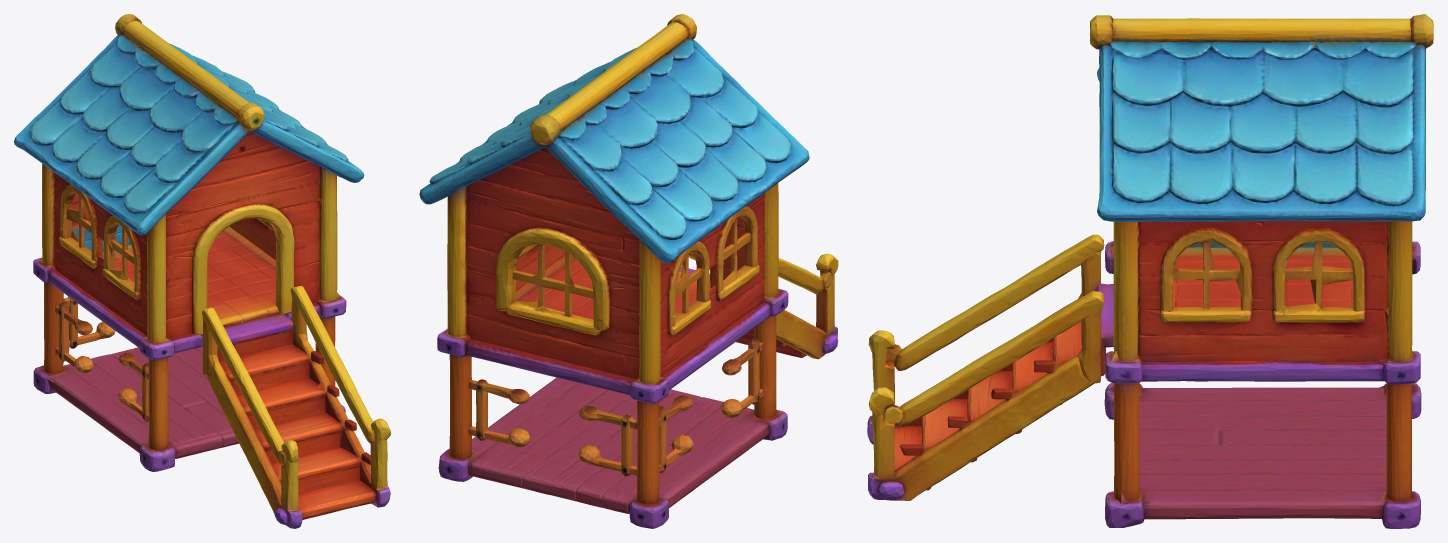
File: DOM_budka_8__toy.glb
3 renders of one model, left to right at view 1: azimuth 30°, elevation 25°; view 2: azimuth 150°, elevation 25°; view 3: azimuth 270°, elevation 25°, orthographic. The views are drawn at different scales.
Visible parts, largest first — view 1: tripo_node_ac6729f5-73c2-4e4e-95e1-3ff5b1cdb705; view 2: tripo_node_ac6729f5-73c2-4e4e-95e1-3ff5b1cdb705; view 3: tripo_node_ac6729f5-73c2-4e4e-95e1-3ff5b1cdb705.
Boxes of the visible parts, left/top/right/bottom form: tripo_node_ac6729f5-73c2-4e4e-95e1-3ff5b1cdb705: left=14, top=14, right=390, bottom=528; tripo_node_ac6729f5-73c2-4e4e-95e1-3ff5b1cdb705: left=419, top=14, right=838, bottom=528; tripo_node_ac6729f5-73c2-4e4e-95e1-3ff5b1cdb705: left=867, top=14, right=1433, bottom=528.
Size of the model in its own units: 2.76 by 4 by 4.52.
Materials: 1 (1 with a texture image).
